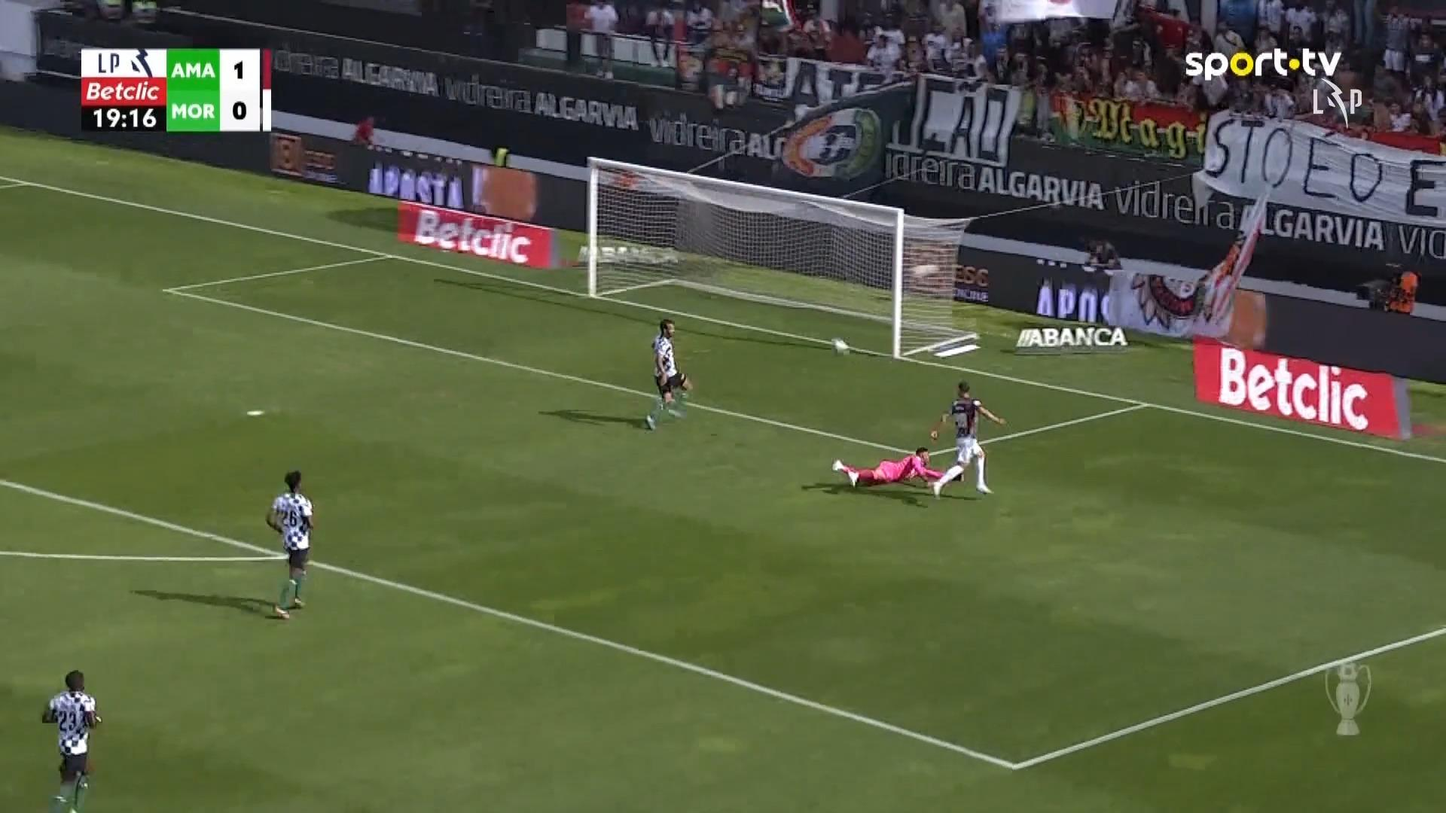ball: (831, 336, 849, 355)
goalkeeper: (830, 445, 944, 489)
player: (929, 379, 1007, 498), (40, 668, 102, 811), (264, 469, 315, 619), (643, 318, 693, 431)
